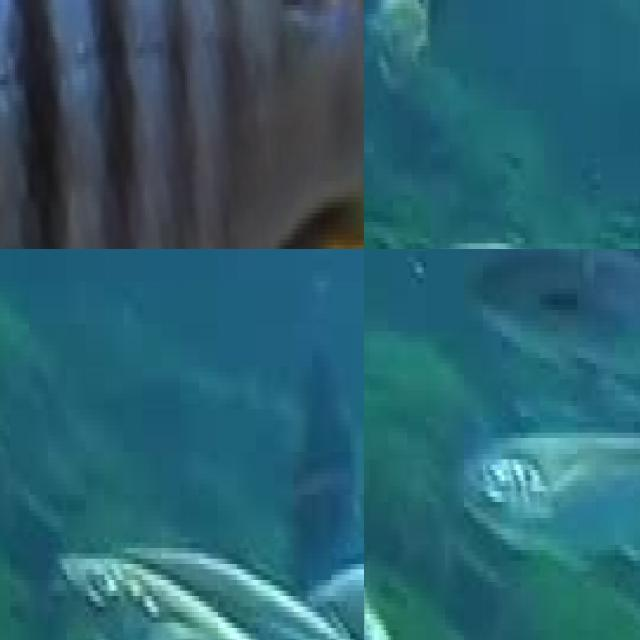fish: (0, 0, 364, 249), (109, 489, 364, 640)
